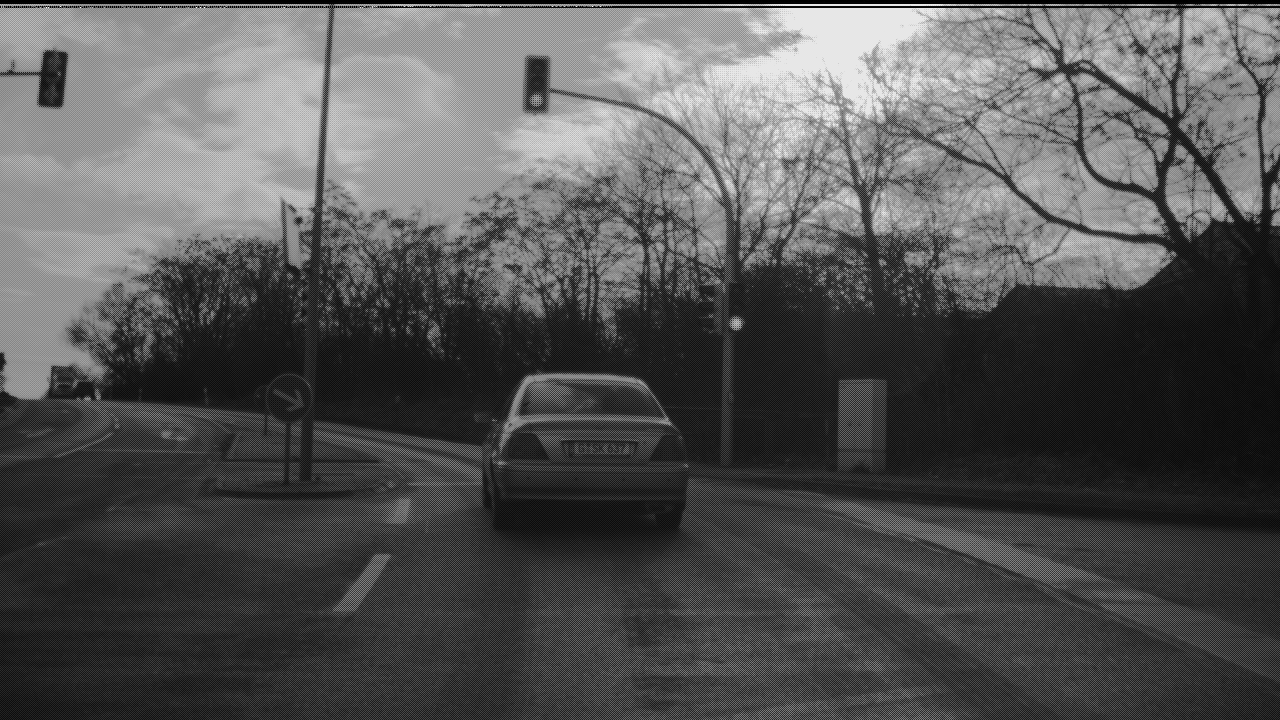pole: (298, 1, 333, 474), (720, 180, 735, 459)
